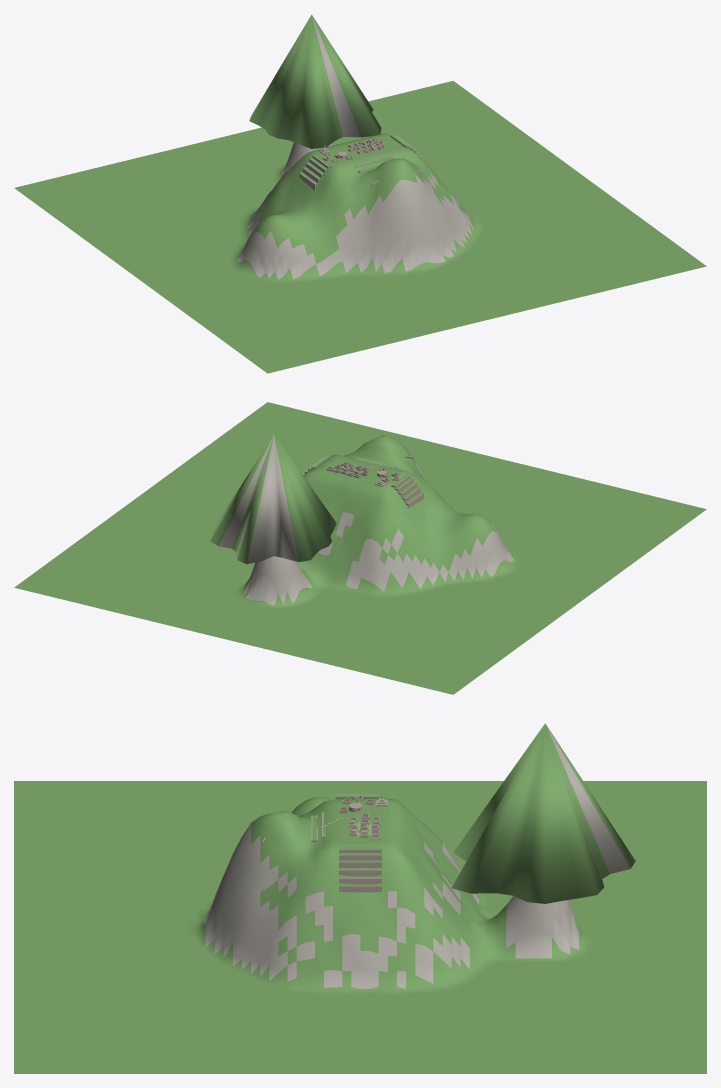
File: machu-picchu.glb
The picture shows the model from 3 angles, top to bottom: view 1: azimuth 30°, elevation 25°; view 2: azimuth 150°, elevation 25°; view 3: azimuth 270°, elevation 25°; orthographic projection. The views are drawn at different scales.
Parts seen in each view (by area): view 1: Terrain, HuaynaPicchu; view 2: Terrain, HuaynaPicchu; view 3: Terrain, HuaynaPicchu.
Part boxes in pixels (x1,y1,x2,y2): Terrain: (14,81,706,373); HuaynaPicchu: (249,14,381,148); Terrain: (14,402,706,694); HuaynaPicchu: (210,435,336,564); Terrain: (14,781,706,1073); HuaynaPicchu: (451,723,635,903).
Bounding box in the file's own units: 420 × 145 × 420.
